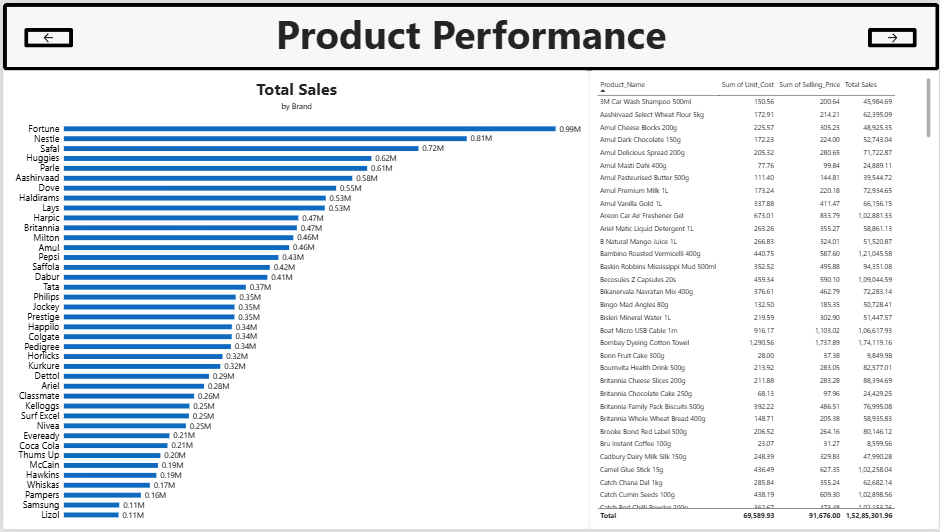

This screenshot's page, from the dashboard's own definition file:
{"tool":"powerbi","page":{"name":"Page 6","canvas":[1920,1080],"ordinal":5},"visuals":[{"type":"textbox","box":[0,0,1920.4,138.3],"z":0},{"type":"barChart","fields":{"Category":["Products.Brand"],"Y":["Sales_Orders.Total Sales"]},"box":[0,138.3,1202.8,942.2],"z":1},{"type":"tableEx","fields":{"Values":["Products.Product_Name","Sum(Products.Unit_Cost)","Sum(Products.Selling_Price)","Sales_Orders.Total Sales"]},"box":[1203.4,137.5,717.6,942.2],"z":2},{"type":"actionButton","box":[44.1,50.1,100,40],"z":3},{"type":"actionButton","box":[1774.1,50.1,100,40],"z":4}]}

Visuals, with their boxes in screenshot pixels (x1, y1, x2, y2), scaled from the page's 1920x1080 canvas onto the 940x532 screenshot:
textbox: 0,0,939,68
barChart - Products.Brand x Sales_Orders.Total Sales: 0,68,589,531
tableEx - Products.Product_Name x Sum(Products.Unit_Cost): 589,68,939,531
actionButton: 22,25,71,44
actionButton: 869,25,918,44
